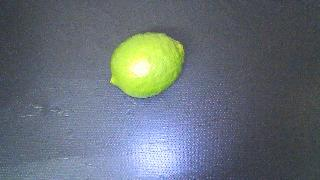EXPORTACION: (110, 33, 185, 98)
